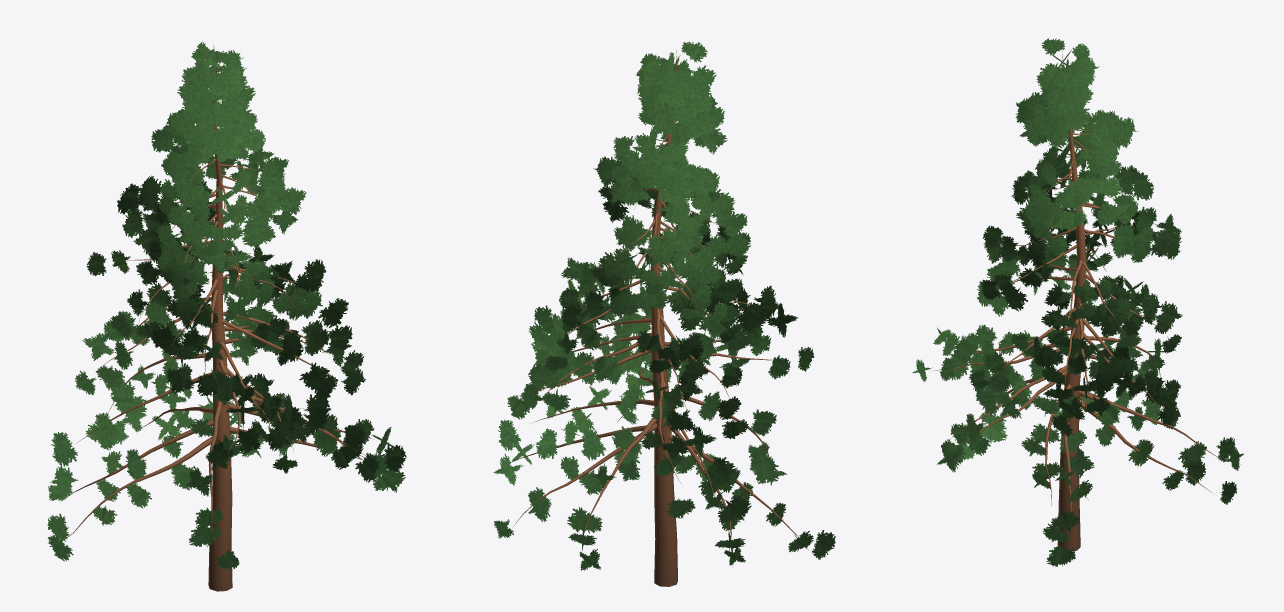
File: pino-alto.glb
3 renders of one model, left to right at view 1: azimuth 30°, elevation 25°; view 2: azimuth 150°, elevation 25°; view 3: azimuth 270°, elevation 25°, orthographic. The views are drawn at different scales.
Parts seen in each view (by area): view 1: pino; view 2: pino; view 3: pino.
Part boxes in pixels (bbox=[...]): pino: bbox=[47, 41, 406, 591]; pino: bbox=[493, 41, 835, 586]; pino: bbox=[912, 38, 1243, 566].
Size of the model in its own units: 11.67 by 16 by 10.5.
2 materials, 1 textured.
